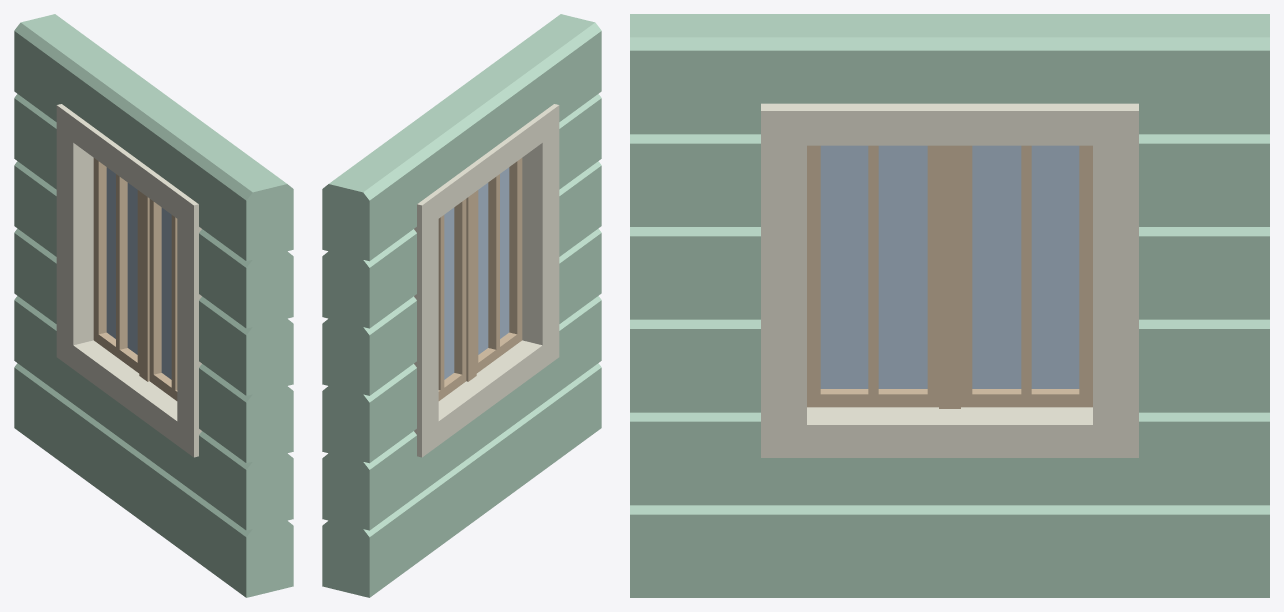
The model's file is Window01_house03.fbx.
3 renders of one model, left to right at view 1: azimuth 30°, elevation 25°; view 2: azimuth 150°, elevation 25°; view 3: azimuth 270°, elevation 25°, orthographic. The views are drawn at different scales.
Visible parts, largest first — view 1: Window01_house03; view 2: Window01_house03; view 3: Window01_house03.
Boxes of the visible parts, x1,y1,x2,y2 form: Window01_house03: (14,14,293,597); Window01_house03: (322,14,601,597); Window01_house03: (630,14,1269,597).
Bounding box in the file's own units: 54.06 × 330 × 344.
